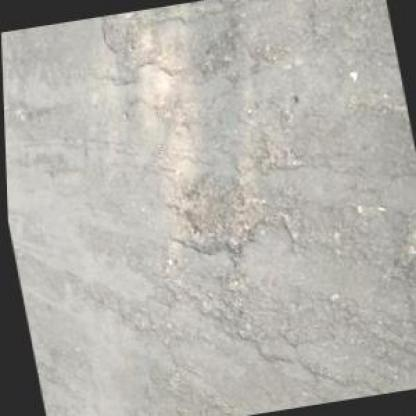pothole: (162, 158, 269, 262), (381, 207, 415, 294)
